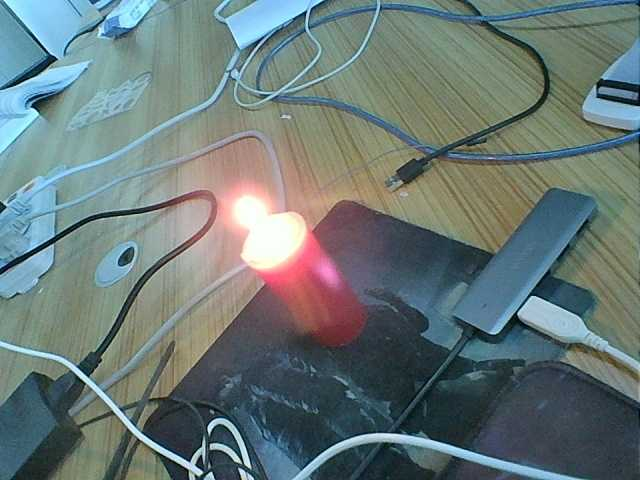candle: (262, 263, 369, 347)
fire: (219, 192, 292, 255)
